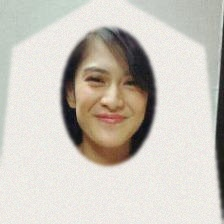Mukena: (0, 18, 220, 224)
